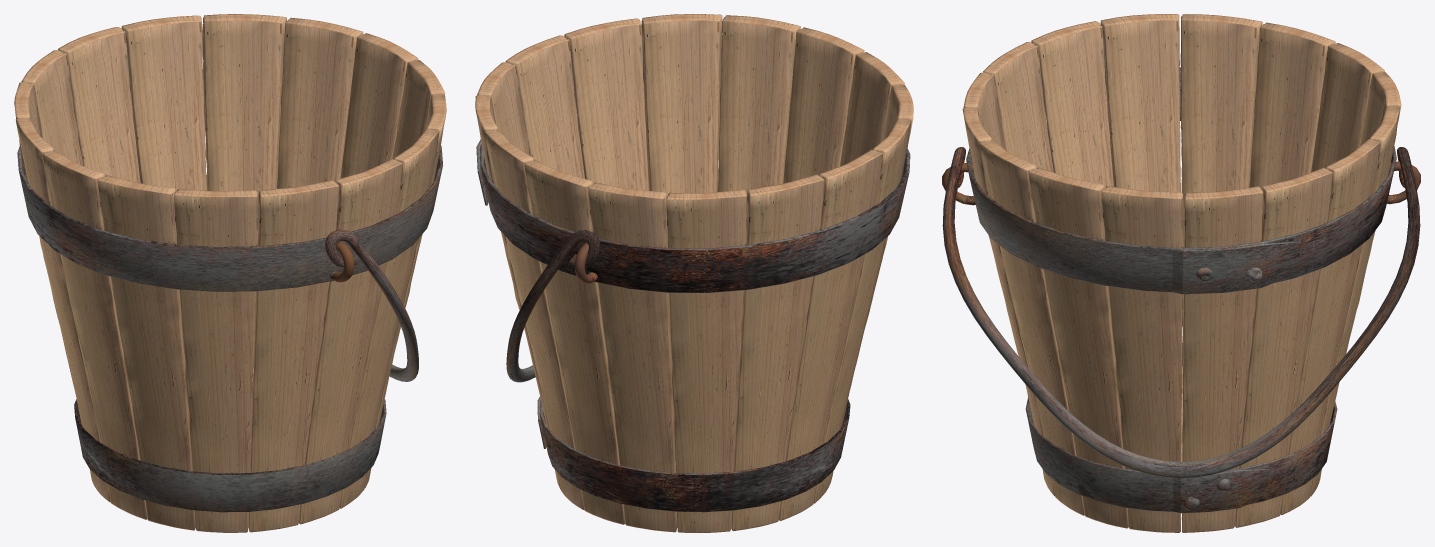
Rendered from Bucket.obj.
3 views of the same model, side by side, from view 1: azimuth 30°, elevation 25°; view 2: azimuth 150°, elevation 25°; view 3: azimuth 270°, elevation 25° (orthographic).
Parts seen in each view (by area): view 1: Secchio, Bordi, Manico; view 2: Secchio, Bordi, Manico; view 3: Secchio, Bordi, Manico, Chiodi.
Part boxes in pixels (box(x1,y1,x2,y2)): Secchio: box(14, 14, 446, 532); Bordi: box(17, 69, 442, 512); Manico: box(206, 175, 418, 381); Secchio: box(475, 14, 913, 532); Bordi: box(476, 139, 910, 512); Manico: box(506, 187, 718, 382); Secchio: box(962, 14, 1401, 532); Bordi: box(942, 67, 1420, 513); Manico: box(942, 147, 1420, 478); Chiodi: box(1183, 267, 1262, 510).
Bounding box in the file's own units: 2.65 × 2.46 × 2.88.
Materials: 2 (2 with a texture image).
